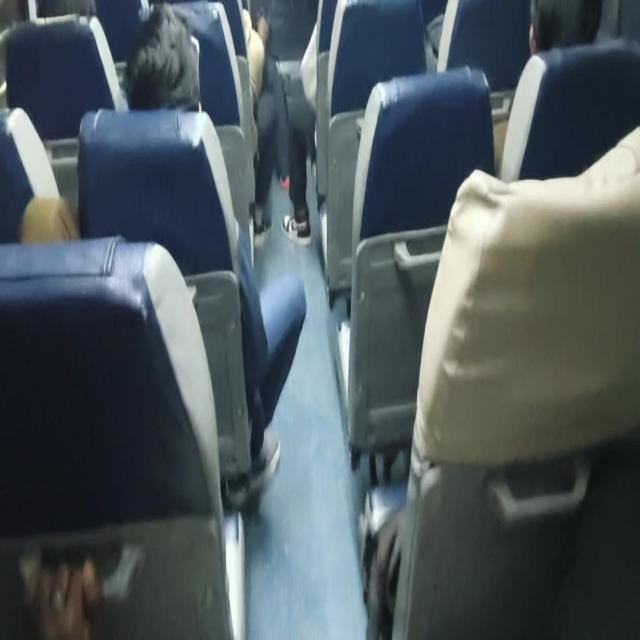person: (128, 19, 208, 117), (526, 0, 600, 53), (36, 0, 105, 34)
